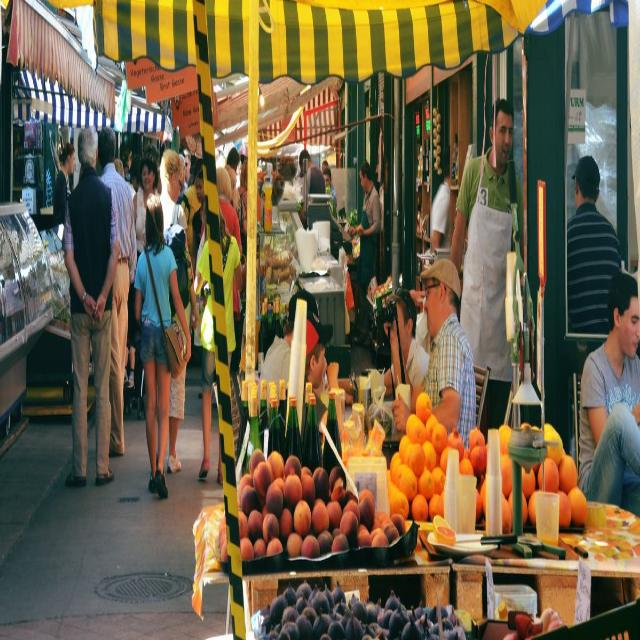body: (449, 96, 525, 441), (60, 120, 122, 490), (131, 190, 193, 502), (384, 257, 478, 461), (576, 270, 640, 521), (192, 197, 245, 488), (156, 147, 201, 476), (96, 129, 138, 460), (322, 284, 432, 399), (256, 285, 324, 460), (566, 154, 622, 332), (113, 145, 247, 195), (350, 154, 382, 348), (300, 310, 344, 440), (216, 165, 243, 319), (132, 152, 160, 262), (429, 140, 451, 250), (52, 141, 76, 229), (299, 148, 326, 223), (191, 166, 206, 276), (320, 155, 340, 224)
